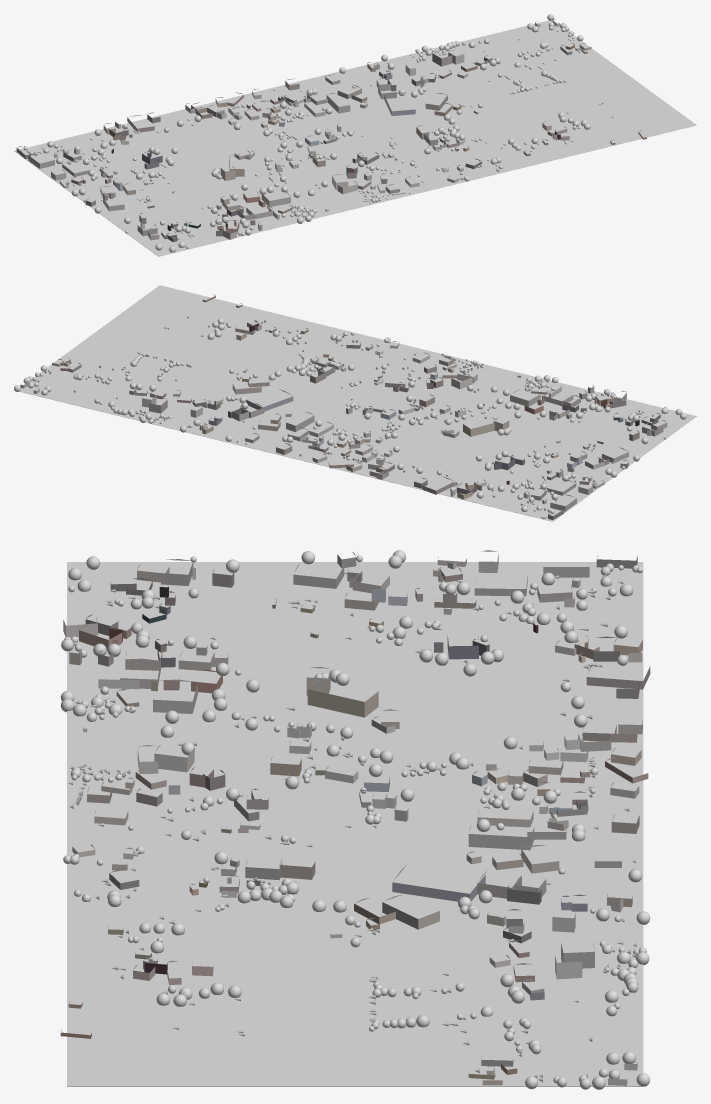
File: scene_d567fbf4-dc4b-47c7-a5cf-6665632d3871.glb
3 renders of one model, top to bottom at view 1: azimuth 30°, elevation 25°; view 2: azimuth 150°, elevation 25°; view 3: azimuth 270°, elevation 25°, orthographic. The views are drawn at different scales.
Parts seen in each view (by area): view 1: Ground_Base; view 2: Ground_Base; view 3: Ground_Base, BLD-007, BLD-004, BLD-001.
Part boxes in pixels (x1,y1,x2,y2): Ground_Base: (14,20,696,256); Ground_Base: (19,285,696,521); Ground_Base: (67,562,643,1086); BLD-007: (307,680,378,717); BLD-004: (468,825,534,850); BLD-001: (392,865,485,901).
Size of the model in its own units: 1097 by 23.45 by 516.
